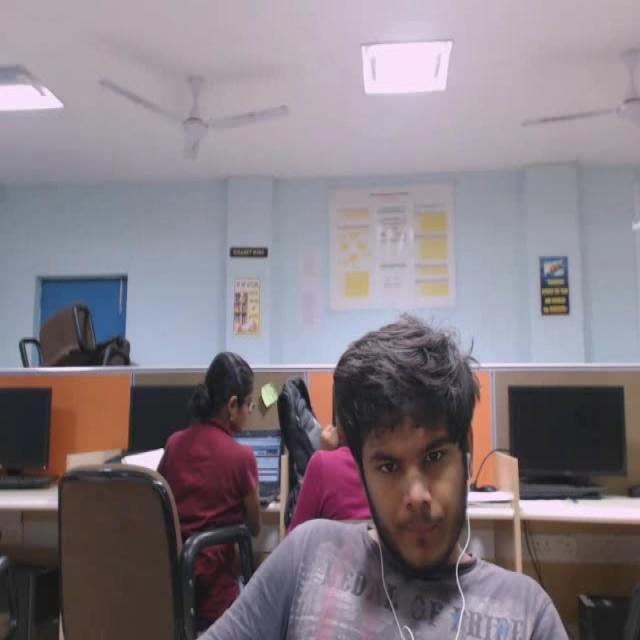Engaged: (312, 311, 508, 591)
